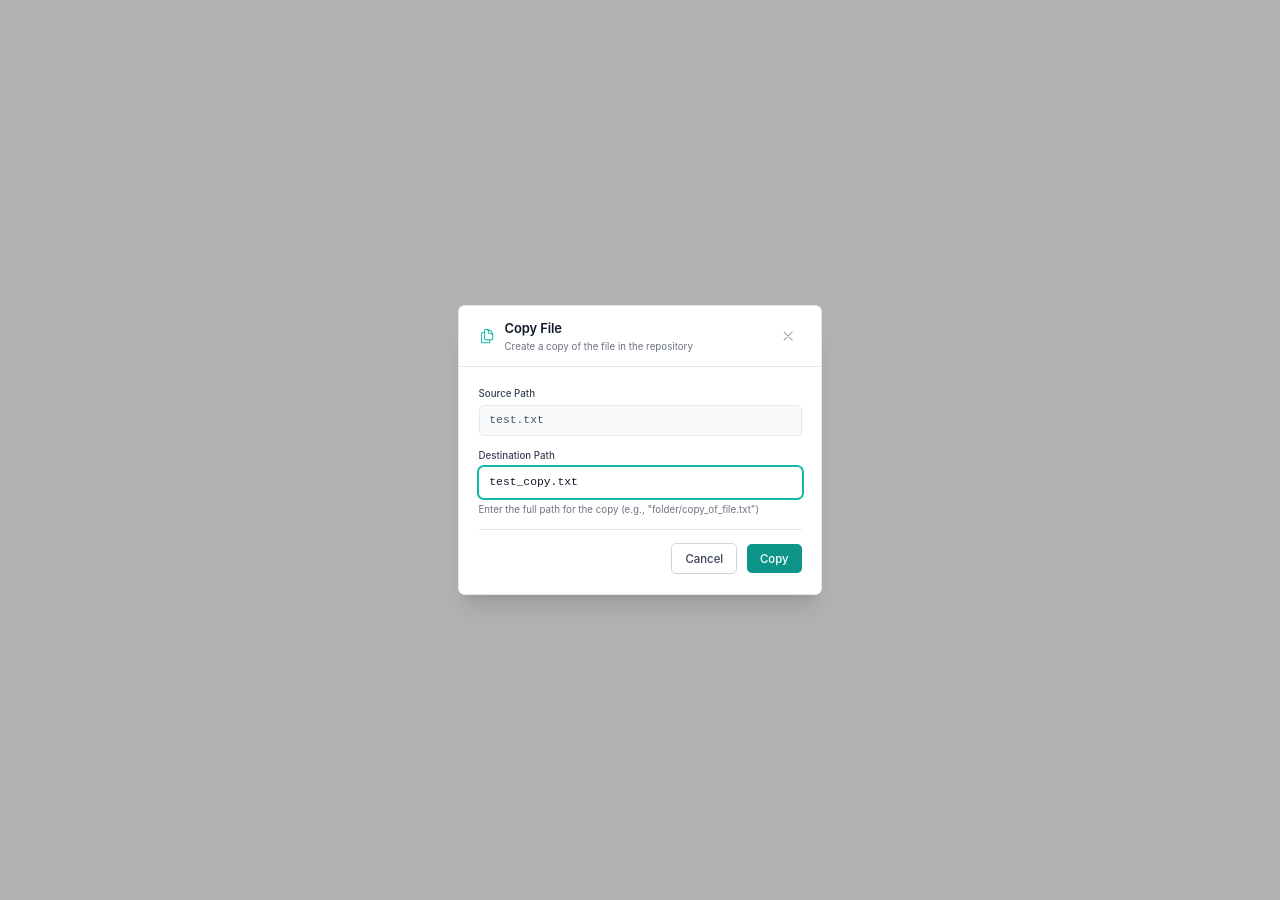
Test: CopyFileModal › validates path with ..
Replace the text in the field with placeholder "Enter destination path" with "../test_copy.txt" at (640, 483), box [478,467,802,498]
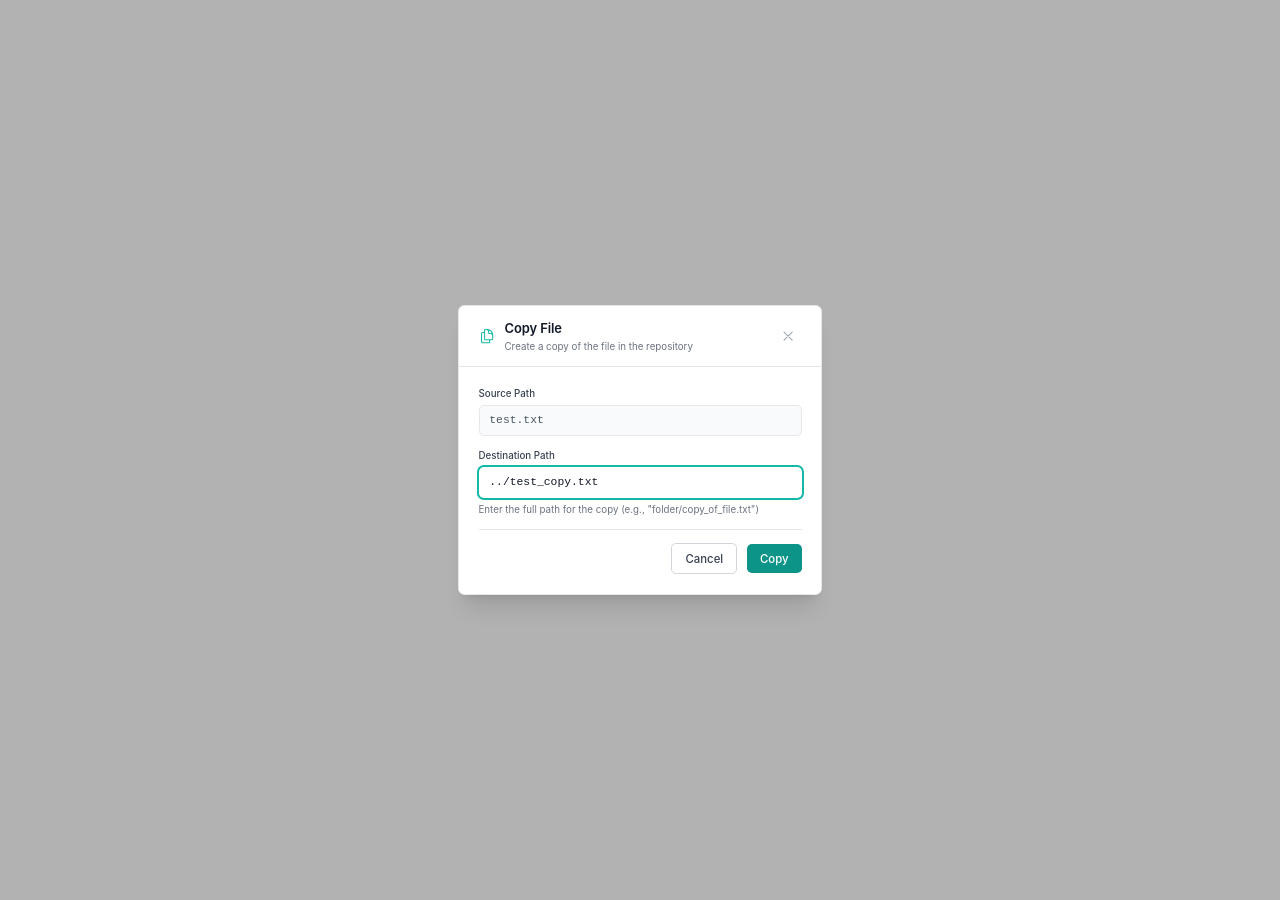
Click the button "Copy".
click(774, 559)  # box [747,544,802,573]
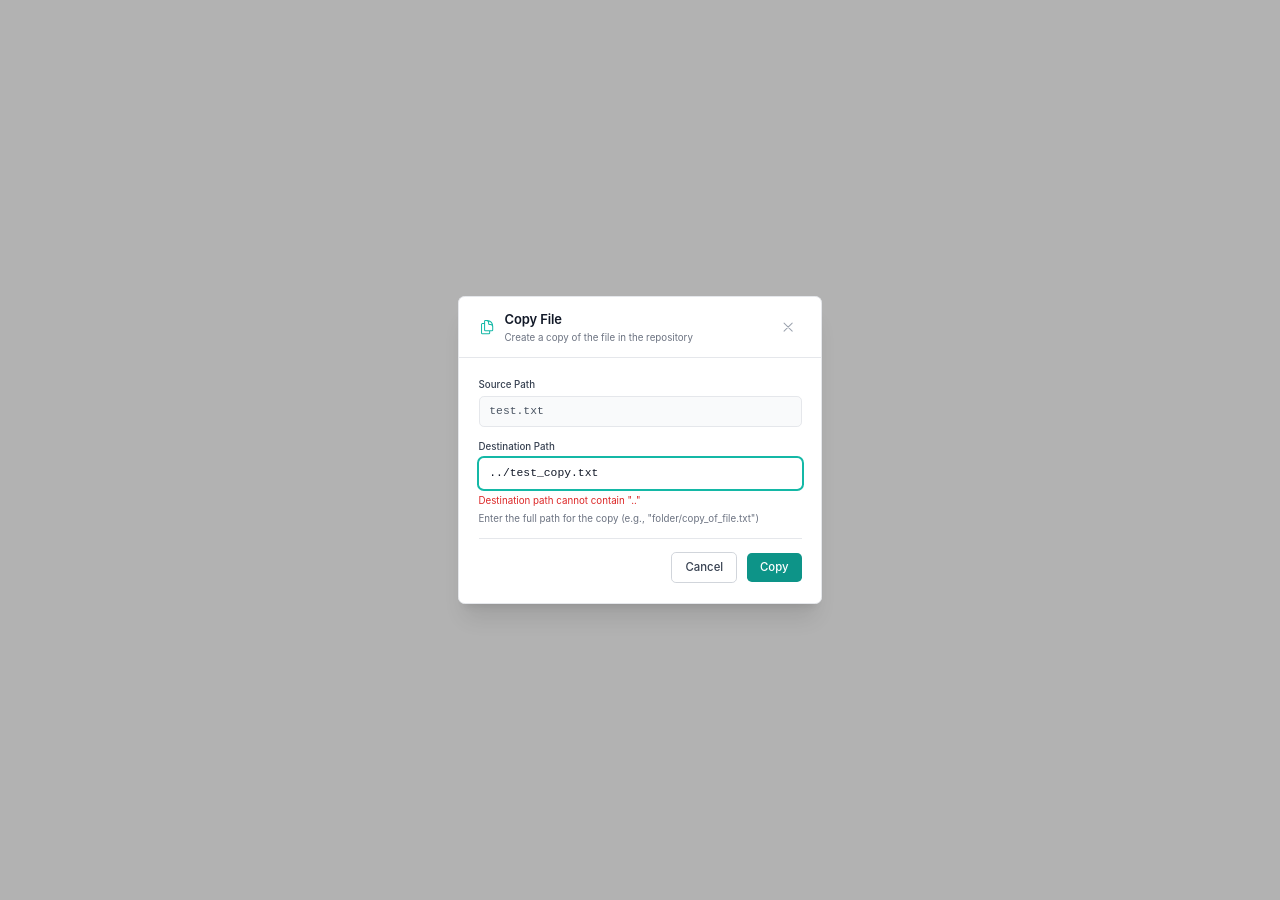
Expected: the text "Destination path cannot contain \"..\"" is shown, [478,495,641,506]
